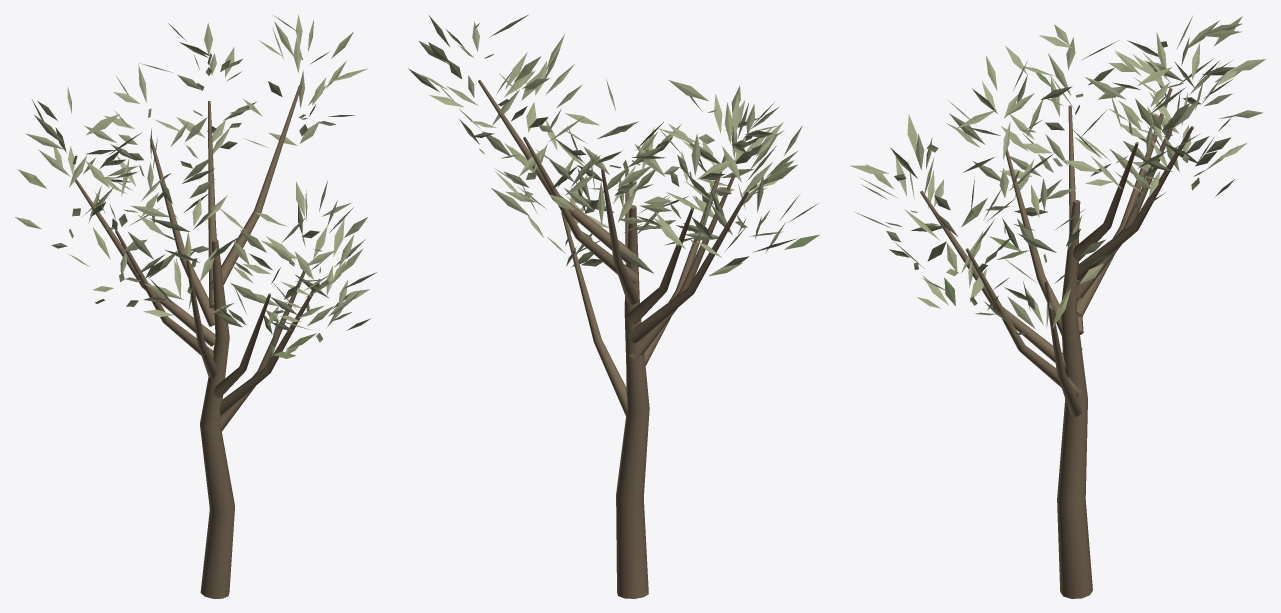
File: desktop.glb
3 renders of one model, left to right at view 1: azimuth 30°, elevation 25°; view 2: azimuth 150°, elevation 25°; view 3: azimuth 270°, elevation 25°, orthographic. The views are drawn at different scales.
Bounding box in the file's own units: 1.62 × 2.45 × 1.6.
Materials: 1 (1 with a texture image).
